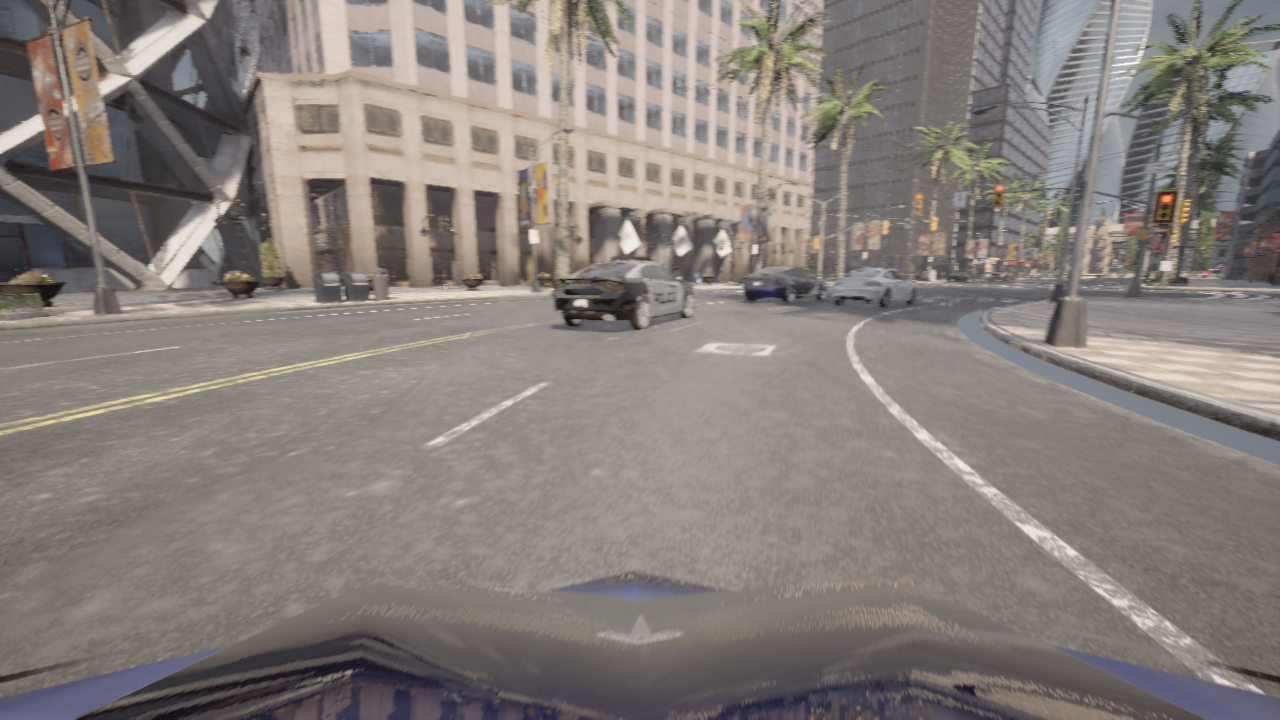cyclist: (0, 569, 1279, 719), (552, 255, 694, 330), (831, 267, 918, 307), (743, 267, 827, 302), (945, 272, 968, 282), (989, 271, 1008, 280), (1026, 272, 1040, 279), (1008, 274, 1015, 280)
